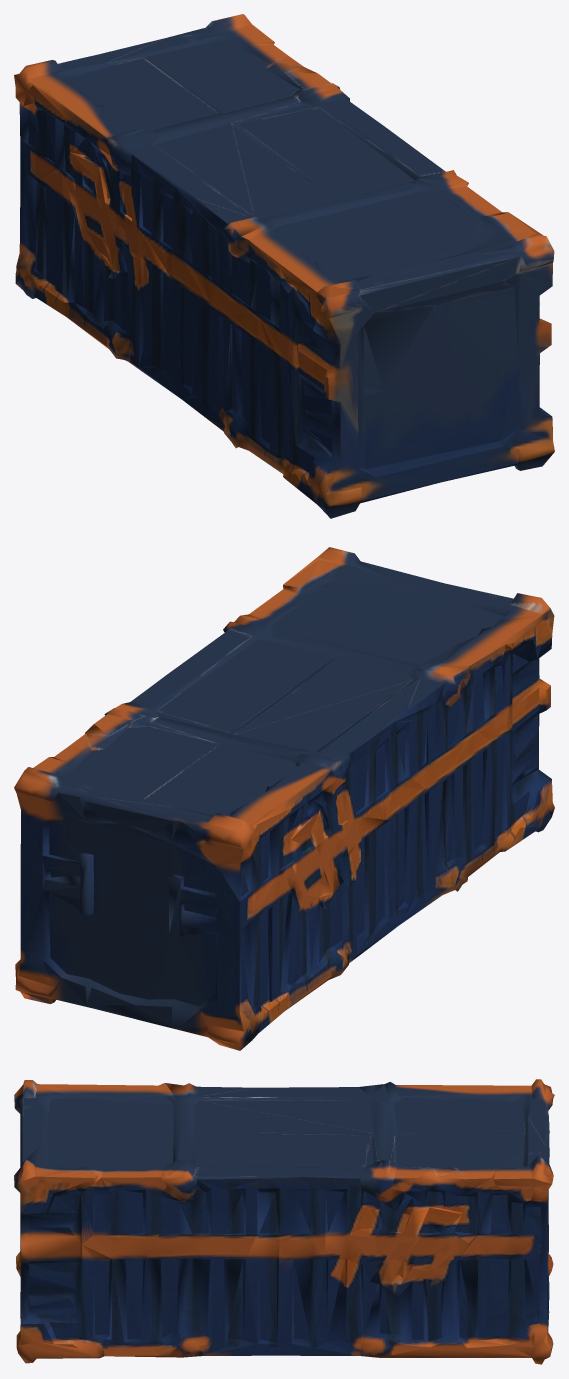
3 renders of one model, top to bottom at view 1: azimuth 30°, elevation 25°; view 2: azimuth 150°, elevation 25°; view 3: azimuth 270°, elevation 25°, orthographic. The views are drawn at different scales.
Parts seen in each view (by area): view 1: tripo_node_ae94fd78.004; view 2: tripo_node_ae94fd78.004; view 3: tripo_node_ae94fd78.004.
Boxes of the visible parts, x1=… form: tripo_node_ae94fd78.004: x1=14, y1=14, x2=554, y2=518; tripo_node_ae94fd78.004: x1=14, y1=547, x2=554, y2=1050; tripo_node_ae94fd78.004: x1=14, y1=1079, x2=554, y2=1364.
Size of the model in its own units: 10.55 by 9.93 by 24.66.
